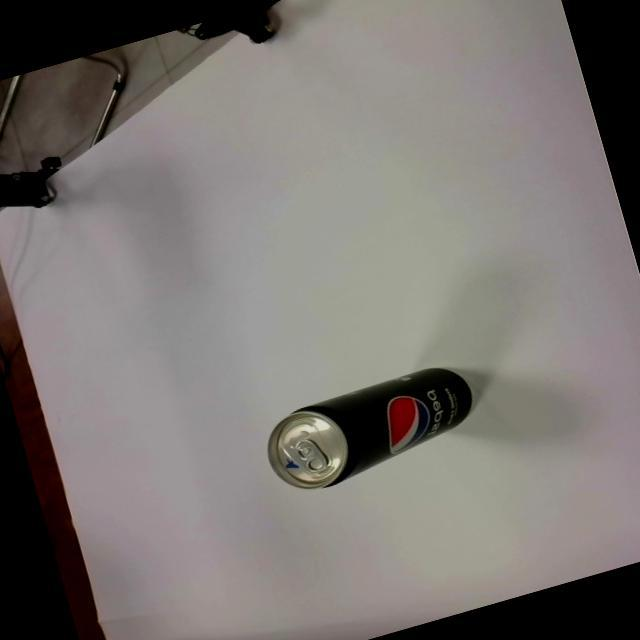debris: (255, 356, 486, 502)
